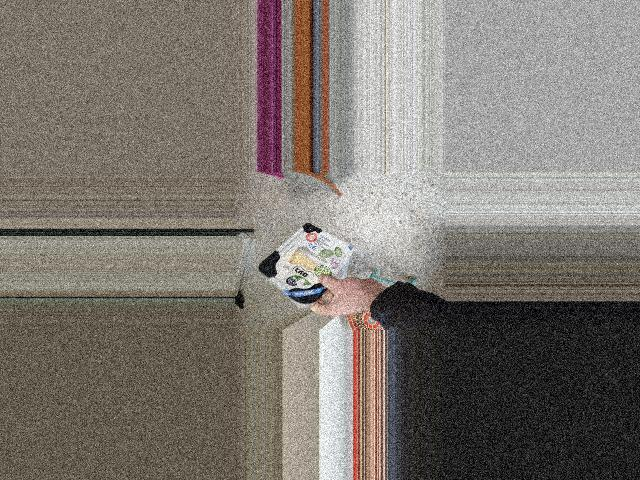cheese: (271, 217, 340, 327)
